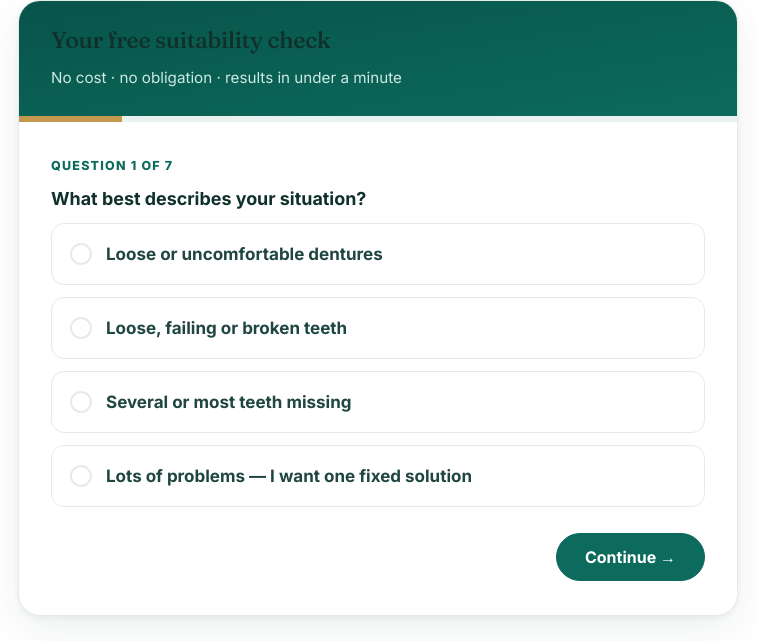
Scenario: SuitabilityQuiz › advances after a selection and clears the error
The width and height of the screenshot is (757, 641).
Step 1. Click the button "Several or most teeth missing" → x=229, y=402, box [51, 371, 705, 433]
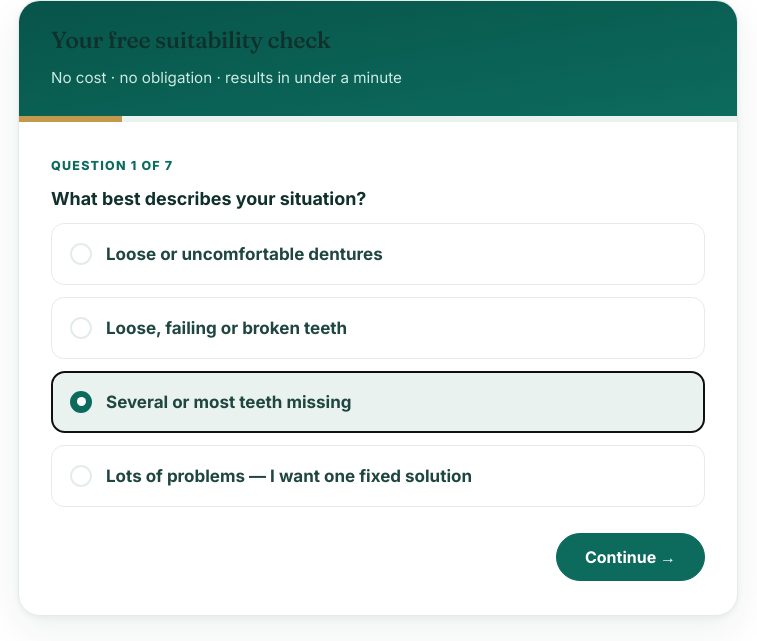
Step 2. Click the button "Continue →" → x=630, y=557, box [556, 533, 705, 581]
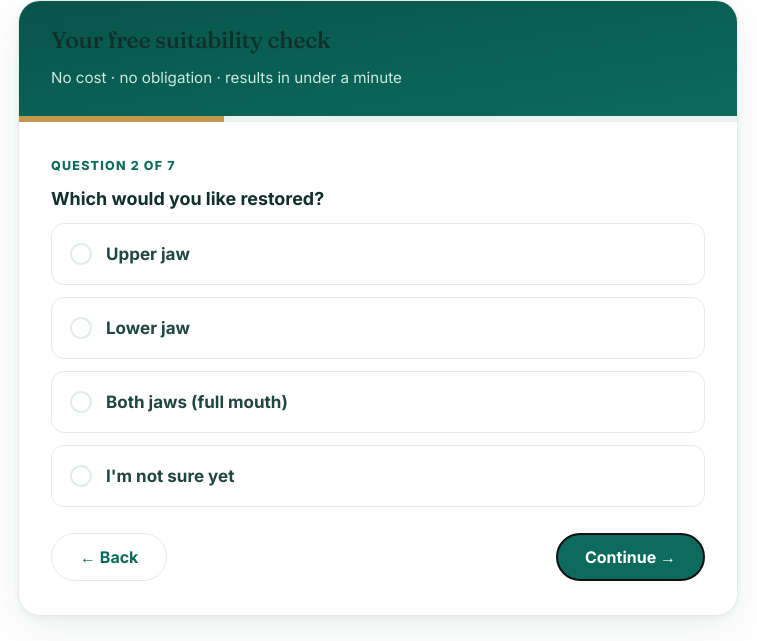
Now the text "Question 2 of 7" is shown, box [51, 158, 176, 173]
